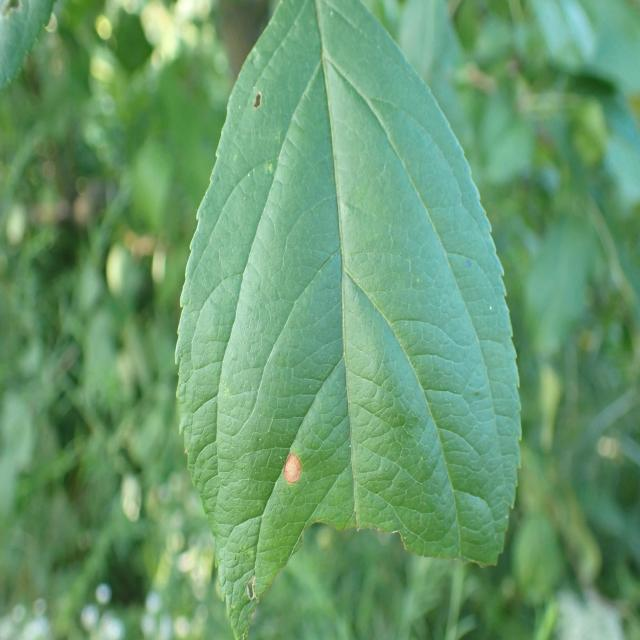Black Rot: (267, 419, 316, 506)
